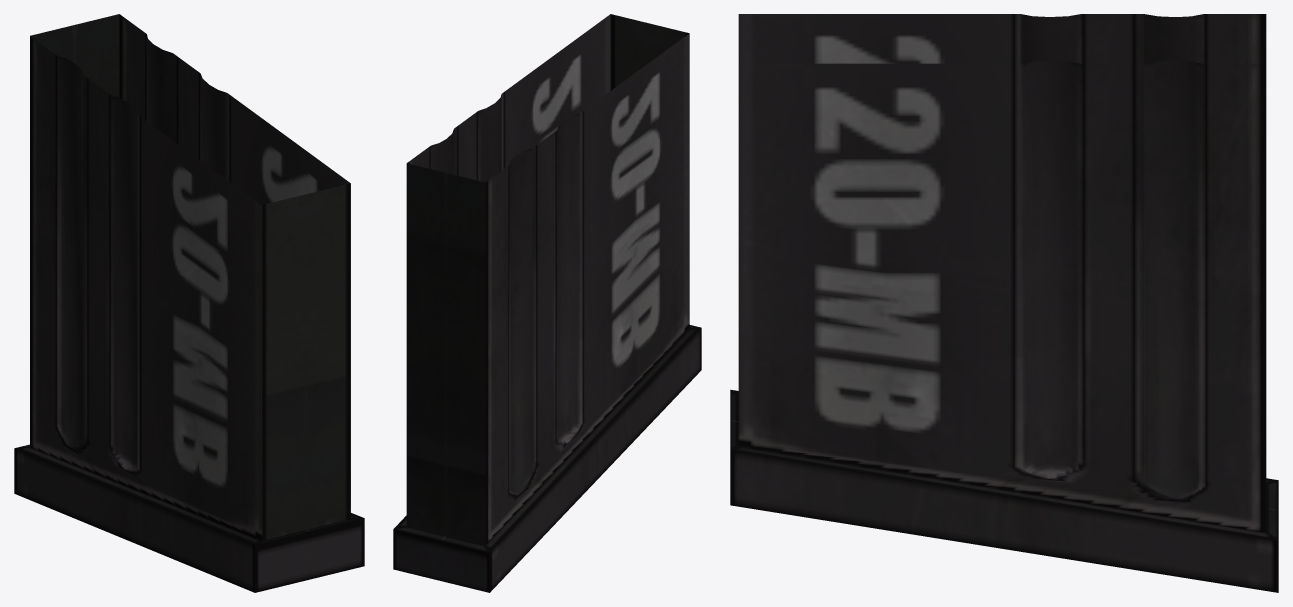
The model's file is SniperRifle_Warfare_Clip_2.FBX.
3 renders of one model, left to right at view 1: azimuth 30°, elevation 25°; view 2: azimuth 150°, elevation 25°; view 3: azimuth 270°, elevation 25°, orthographic. The views are drawn at different scales.
Visible parts, largest first — view 1: mesh_clip; view 2: mesh_clip; view 3: mesh_clip.
Boxes of the visible parts, x1,y1,x2,y2 form: mesh_clip: [14, 14, 364, 592]; mesh_clip: [393, 14, 701, 592]; mesh_clip: [730, 14, 1278, 592].
Bounding box in the file's own units: 0.0302 × 0.121 × 0.1149.
